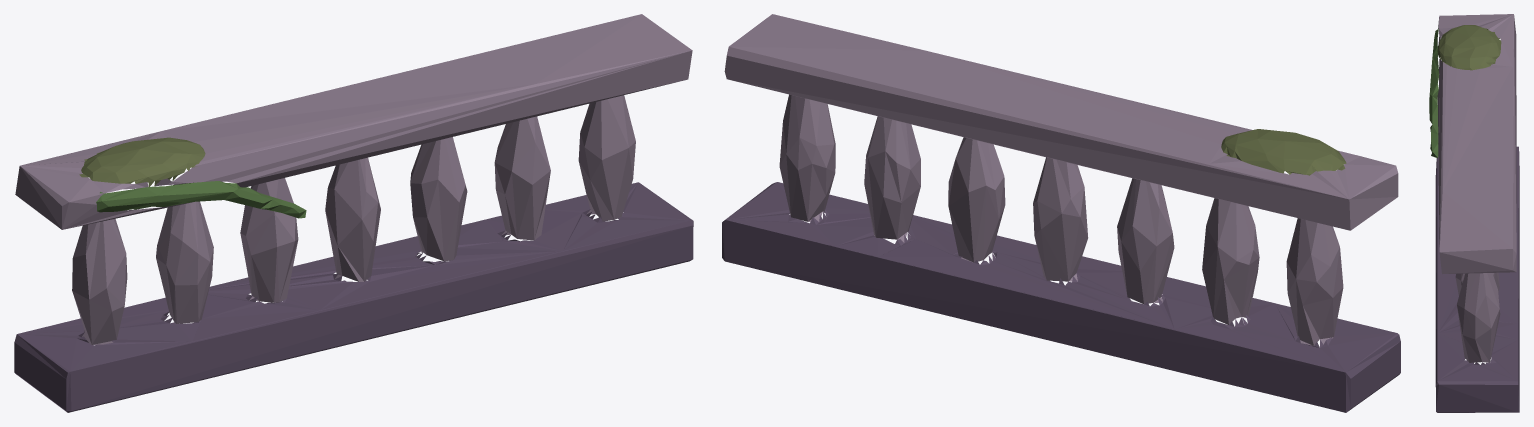
The model's file is balustrade.glb.
3 views of the same model, side by side, from view 1: azimuth 30°, elevation 25°; view 2: azimuth 150°, elevation 25°; view 3: azimuth 270°, elevation 25° (orthographic). The views are drawn at different scales.
Visible parts, largest first — view 1: balustrade; view 2: balustrade; view 3: balustrade.
Boxes of the visible parts, box(x1,y1,x2,y2) form: balustrade: box(14, 14, 693, 412); balustrade: box(722, 14, 1400, 412); balustrade: box(1429, 14, 1519, 412).
Bounding box in the file's own units: 3.2 × 1.1 × 0.5146.
